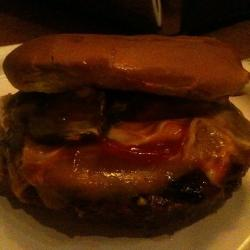burger: (2, 31, 250, 242)
